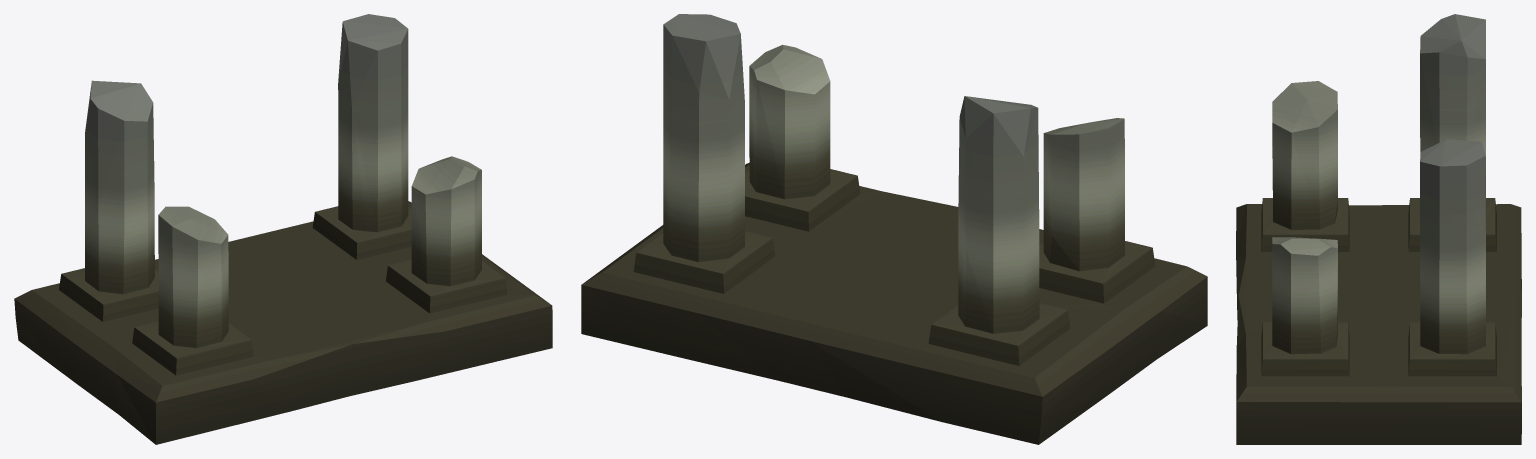
Rendered from EA_Grave_Arch_01a.fbx.
3 views of the same model, side by side, from view 1: azimuth 30°, elevation 25°; view 2: azimuth 150°, elevation 25°; view 3: azimuth 270°, elevation 25° (orthographic). The views are drawn at different scales.
Visible parts, largest first — view 1: EA_Grave_Arch_01a_LOD0; view 2: EA_Grave_Arch_01a_LOD0; view 3: EA_Grave_Arch_01a_LOD0.
Boxes of the visible parts, x1=… form: EA_Grave_Arch_01a_LOD0: x1=14, y1=14, x2=552, y2=444; EA_Grave_Arch_01a_LOD0: x1=581, y1=14, x2=1207, y2=444; EA_Grave_Arch_01a_LOD0: x1=1236, y1=14, x2=1521, y2=444.
Size of what is drawn, in the model's own units: 8.9 by 5.54 by 5.52.
